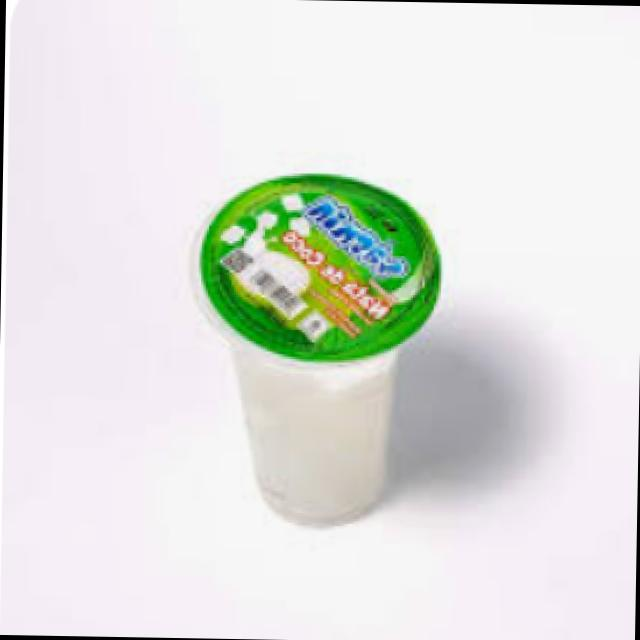GelasPlastik: (190, 169, 448, 527)
